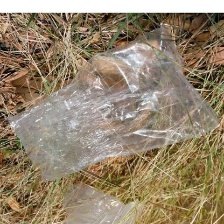plastic_bag: (5, 14, 222, 185), (60, 176, 144, 224)
